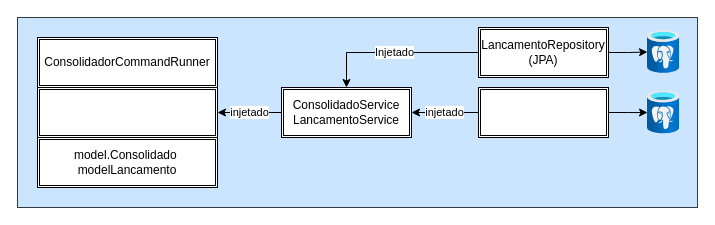
This 715x225 diagram has some shape labels left out. Each missing label, with the centre of its shape:
"ConsolidadoRepository (JPA)" goes at [543,112].
"service.ConsolidadorService" goes at [127,112].
